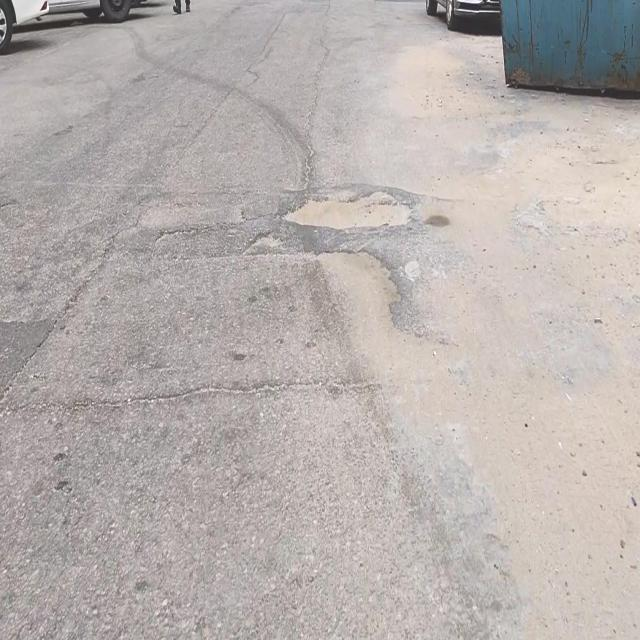Potholes: (281, 183, 418, 235)
